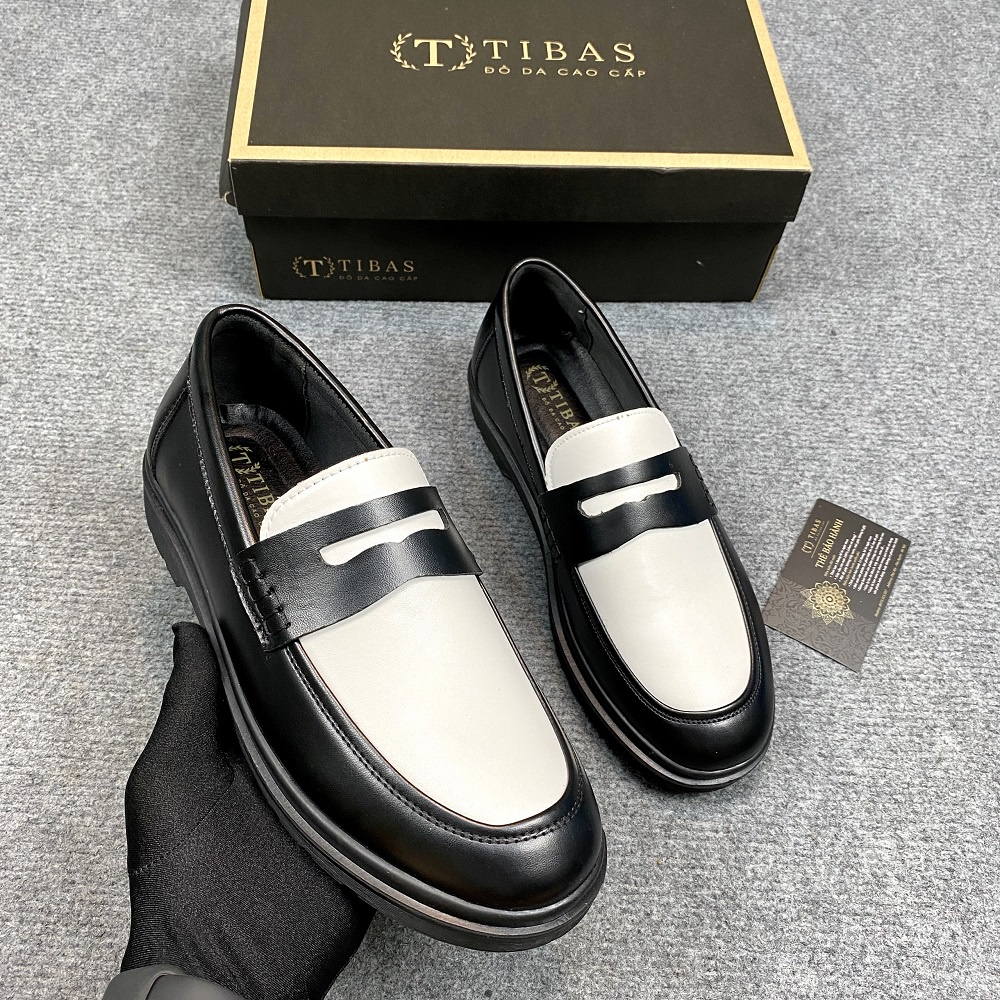loafers: (140, 299, 612, 952), (465, 257, 775, 793)
